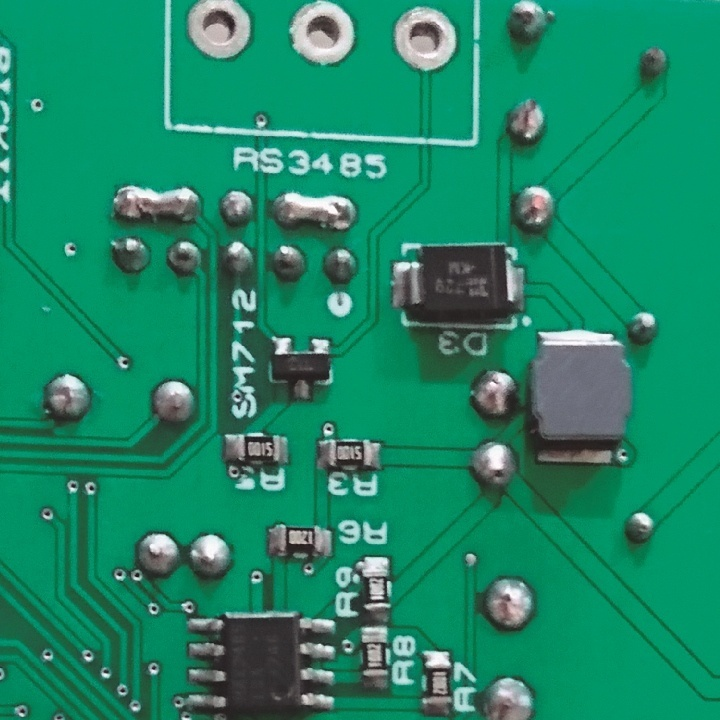F: (391, 4, 458, 75), (288, 1, 359, 66), (184, 1, 260, 59)
P: (272, 189, 359, 231), (112, 186, 200, 225)
